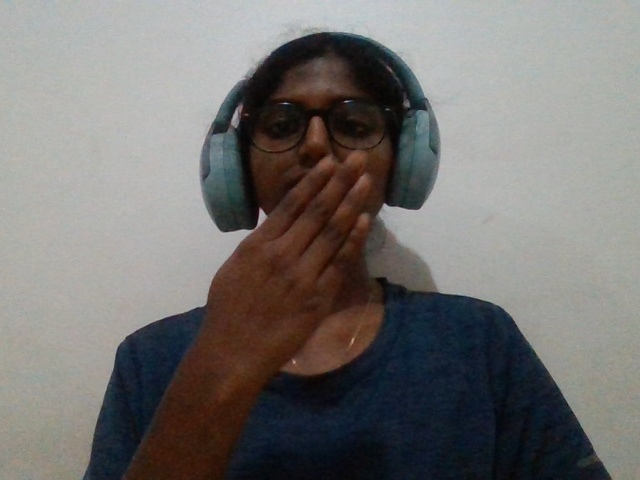Thanks: (180, 143, 417, 400)
